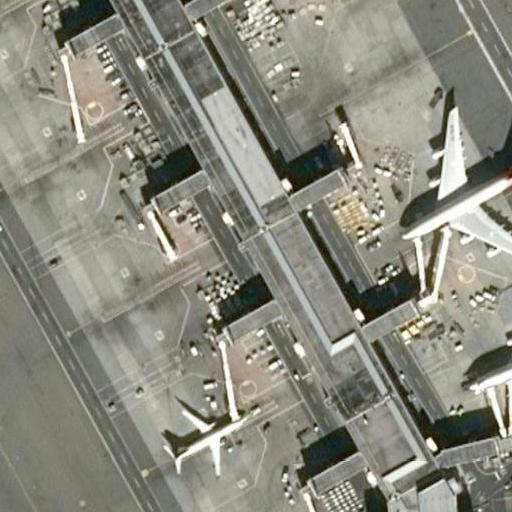Aircraft: (392, 99, 512, 266), (463, 267, 512, 415), (156, 397, 248, 475)
